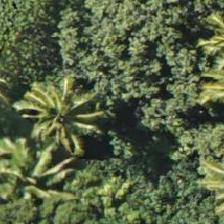coconut_tree: (38, 76, 128, 166), (176, 45, 223, 135)
